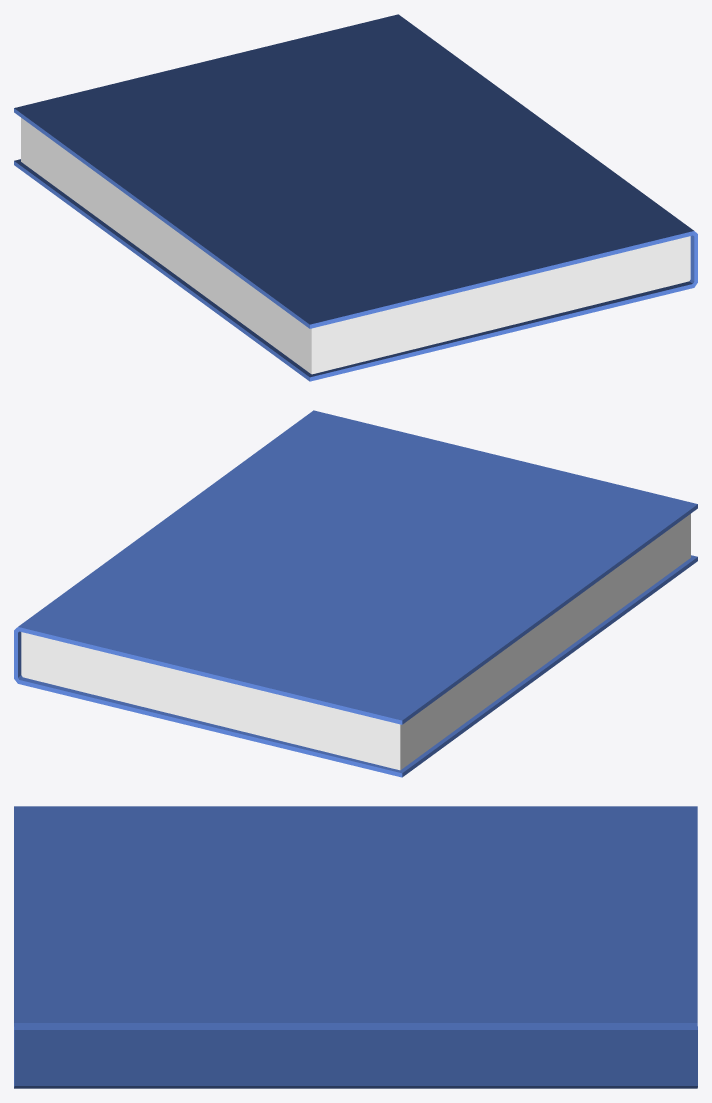
File: Book 2.fbx
3 views of the same model, one above another, from view 1: azimuth 30°, elevation 25°; view 2: azimuth 150°, elevation 25°; view 3: azimuth 270°, elevation 25° (orthographic). The views are drawn at different scales.
Parts seen in each view (by area): view 1: Node 0; view 2: Node 0; view 3: Node 0.
Part boxes in pixels (x1,y1,x2,y2): Node 0: (14,14,697,381); Node 0: (14,410,697,777); Node 0: (14,806,697,1088).
Size of the model in its own units: 0.2563 by 0.0272 by 0.194.
